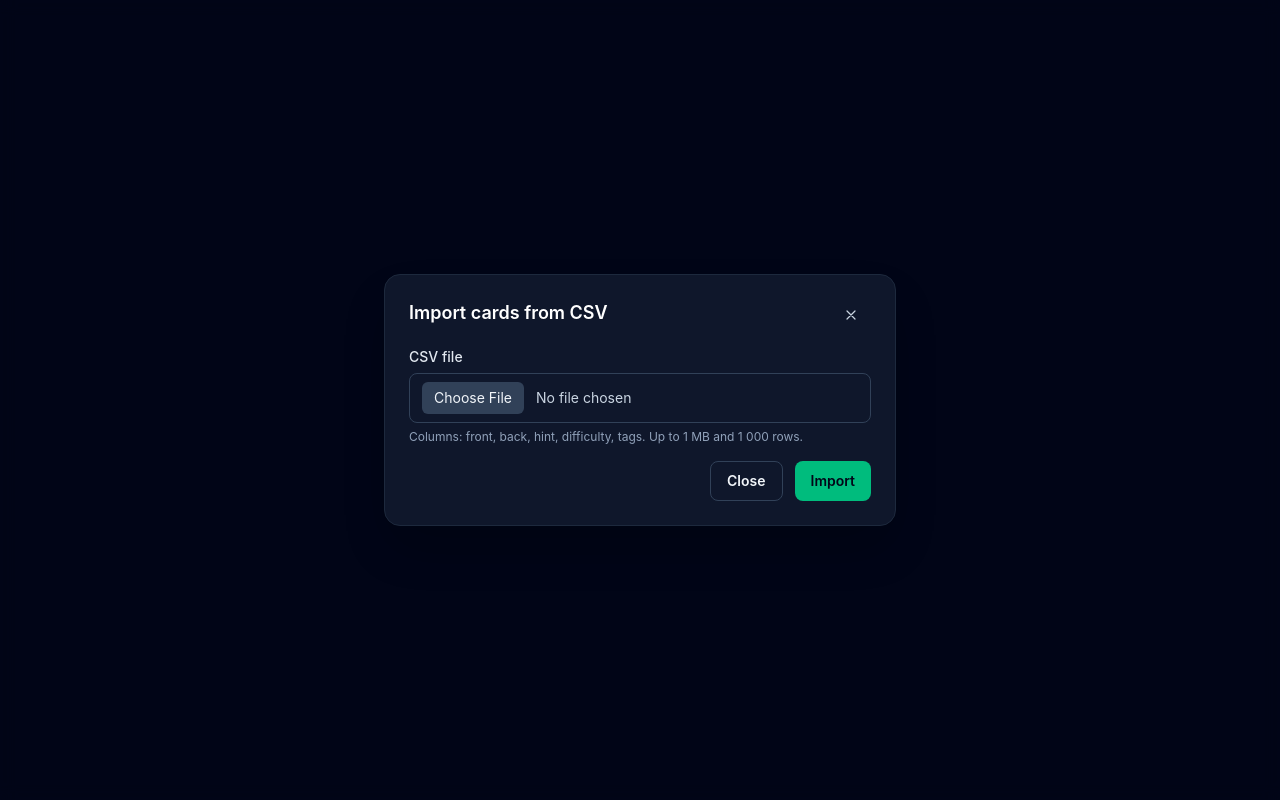
Test case: ImportCardsModal › requires a file before importing
Click the button "Import" at (833,481), box top-left (794, 461), bottom-right (871, 501)
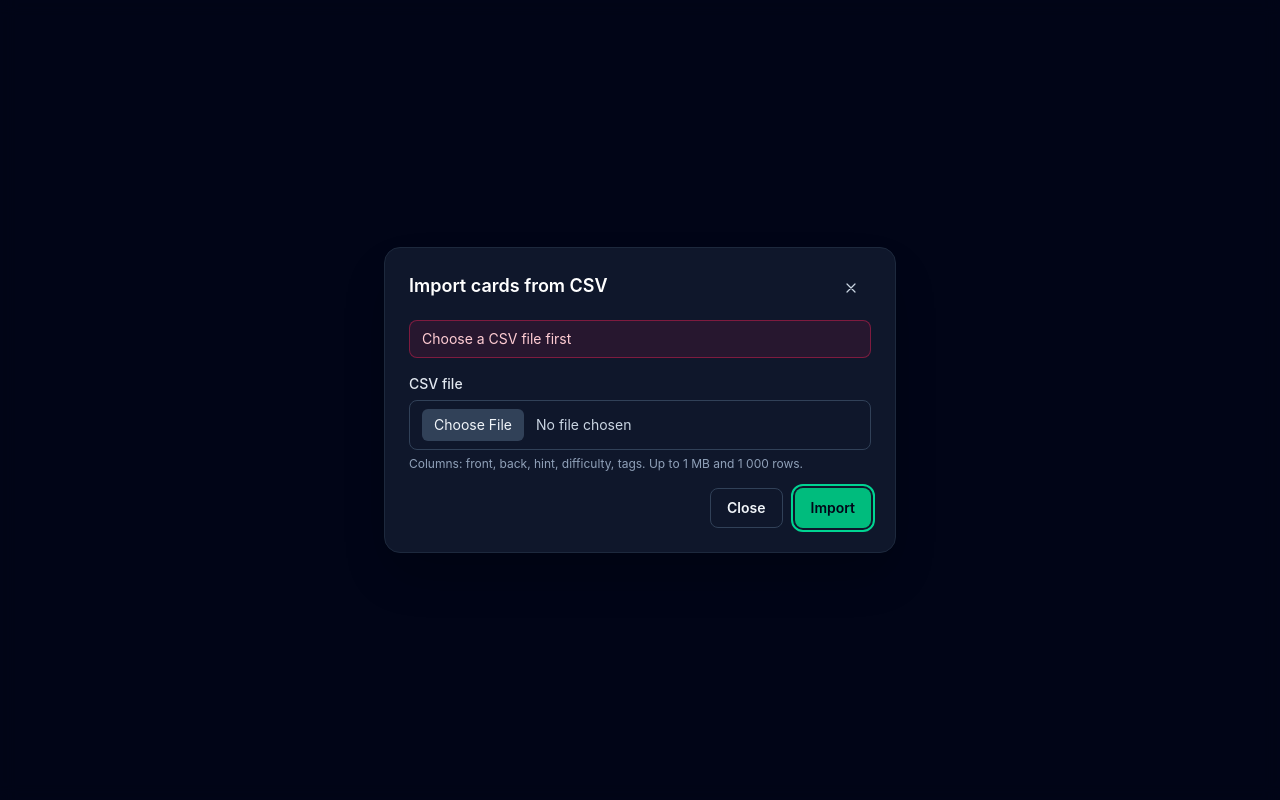
Expected: the text "Choose a CSV file first" is shown, top-left (409, 320), bottom-right (871, 358)
